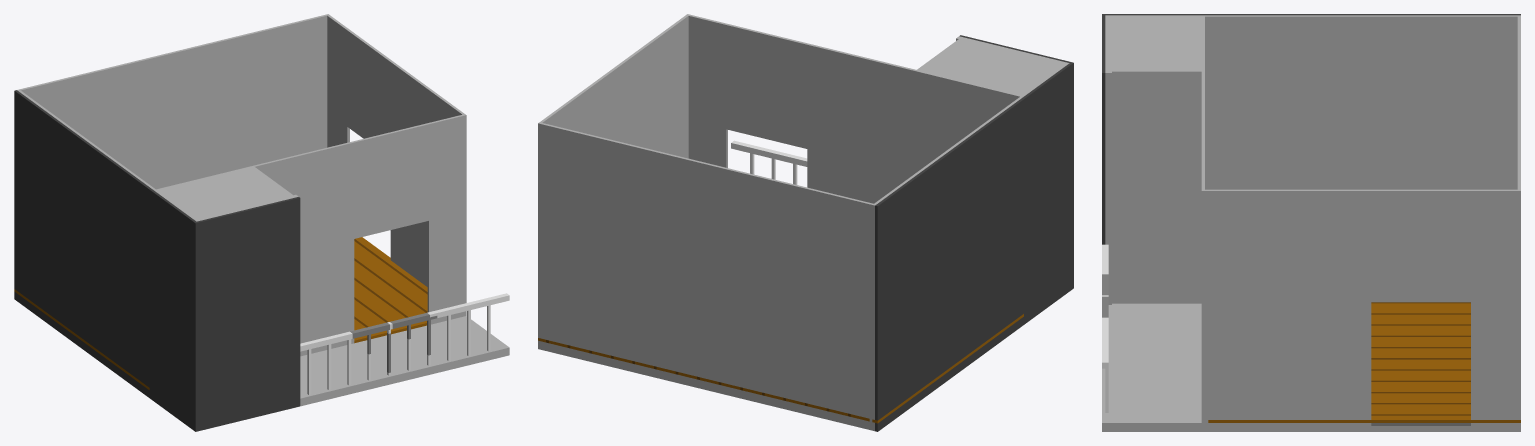
The model's file is 4x2 third (1)-7.obj.
3 renders of one model, left to right at view 1: azimuth 30°, elevation 25°; view 2: azimuth 150°, elevation 25°; view 3: azimuth 270°, elevation 25°, orthographic. The views are drawn at different scales.
Parts seen in each view (by area): view 1: 4x2 third (1)-7; view 2: 4x2 third (1)-7; view 3: 4x2 third (1)-7.
Part boxes in pixels (x1,y1,x2,y2): 4x2 third (1)-7: (14, 14, 509, 431); 4x2 third (1)-7: (538, 14, 1073, 431); 4x2 third (1)-7: (1102, 14, 1520, 431).
Size of the model in its own units: 126 by 80 by 126.
Materials: 1 (1 with a texture image).
